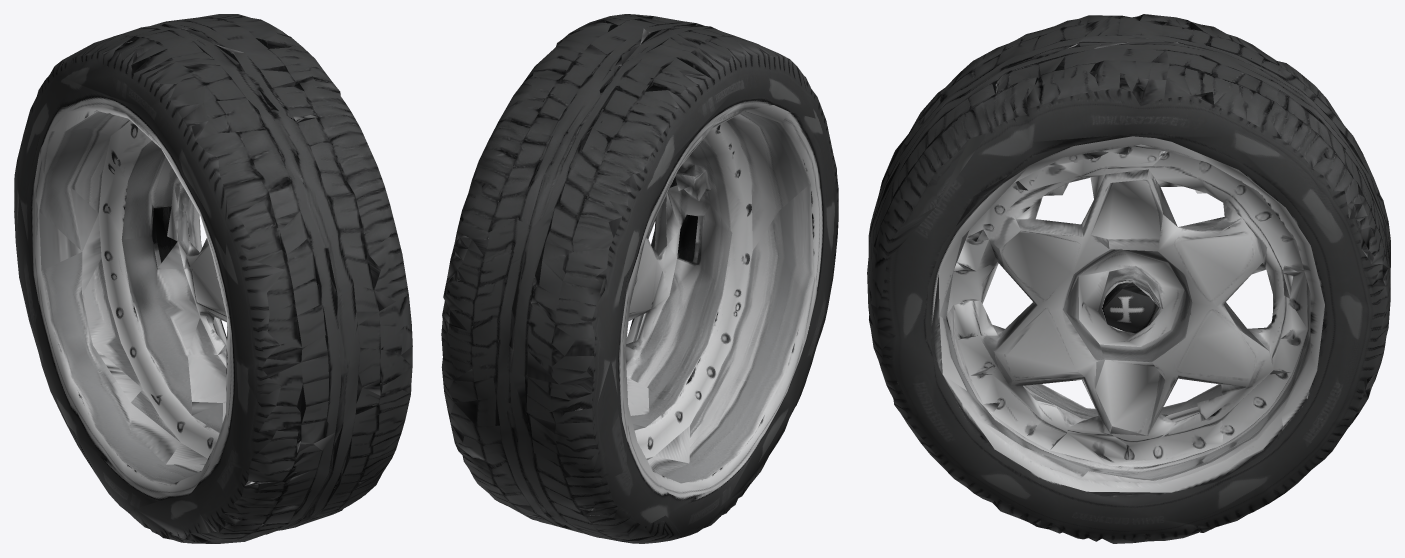
File: supercar_wheel1.obj
3 renders of one model, left to right at view 1: azimuth 30°, elevation 25°; view 2: azimuth 150°, elevation 25°; view 3: azimuth 270°, elevation 25°, orthographic.
Visible parts, largest first — view 1: wheel; view 2: wheel; view 3: wheel.
Part boxes in pixels (box(x1,y1,x2,y2)): wheel: box(14, 14, 412, 543); wheel: box(441, 14, 838, 543); wheel: box(867, 14, 1390, 543).
Size of the model in its own units: 0.2577 by 0.6976 by 0.6966.
